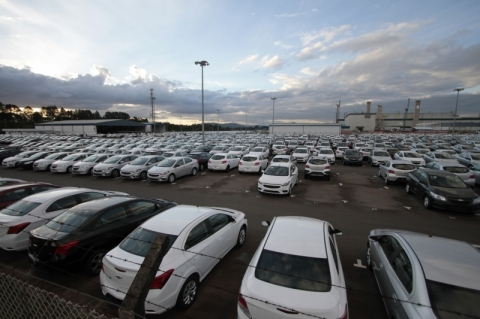Carro: (96, 196, 253, 310), (238, 209, 349, 319), (27, 196, 182, 272), (368, 225, 479, 319), (1, 185, 129, 251), (400, 164, 480, 213), (148, 154, 199, 188), (254, 159, 300, 195), (118, 152, 166, 181), (93, 153, 144, 180), (430, 158, 477, 186), (377, 158, 418, 186), (51, 151, 99, 174), (72, 153, 119, 175), (32, 150, 78, 172), (2, 149, 42, 171), (207, 150, 242, 172), (16, 152, 56, 170), (305, 156, 333, 180), (236, 153, 268, 174), (342, 147, 365, 167), (371, 148, 394, 165), (318, 147, 338, 165), (292, 146, 311, 163)
